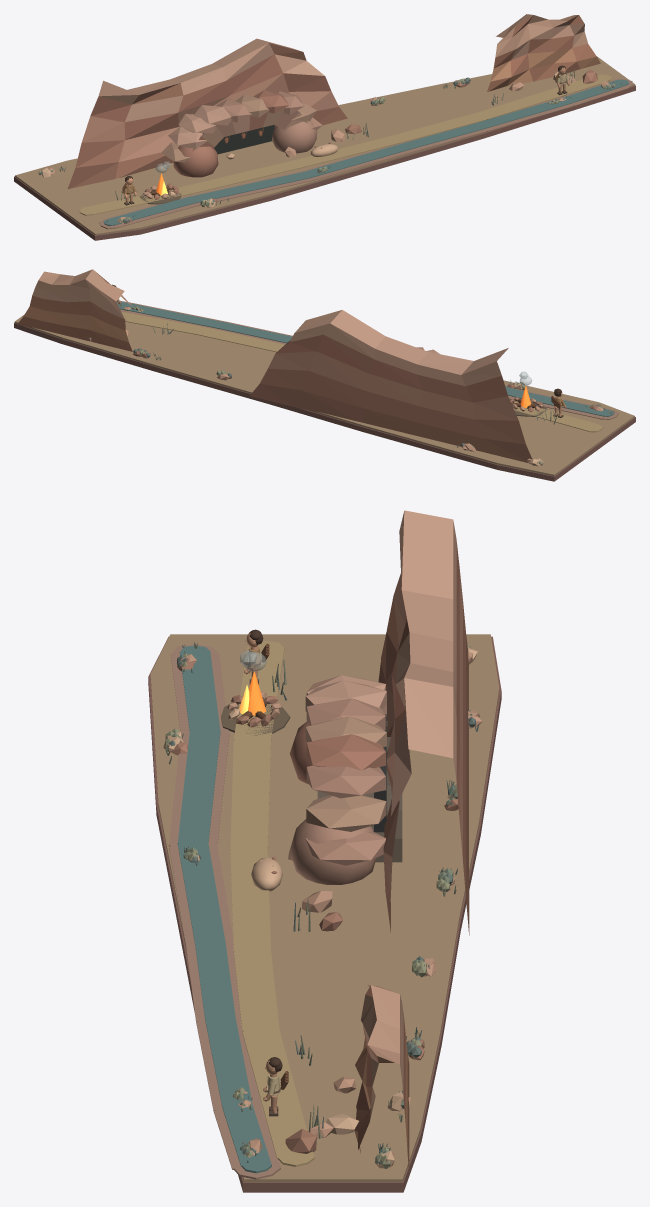
File: patagonia.glb
3 renders of one model, top to bottom at view 1: azimuth 30°, elevation 25°; view 2: azimuth 150°, elevation 25°; view 3: azimuth 270°, elevation 25°, orthographic. The views are drawn at different scales.
Parts seen in each view (by area): view 1: TerrainAndBuildings; view 2: TerrainAndBuildings; view 3: TerrainAndBuildings.
Part boxes in pixels (box(x1,y1,x2,y2)): TerrainAndBuildings: box(14, 14, 635, 240); TerrainAndBuildings: box(14, 269, 635, 481); TerrainAndBuildings: box(148, 510, 501, 1192).
Bounding box in the file's own units: 1.73 × 0.307 × 0.4717.
